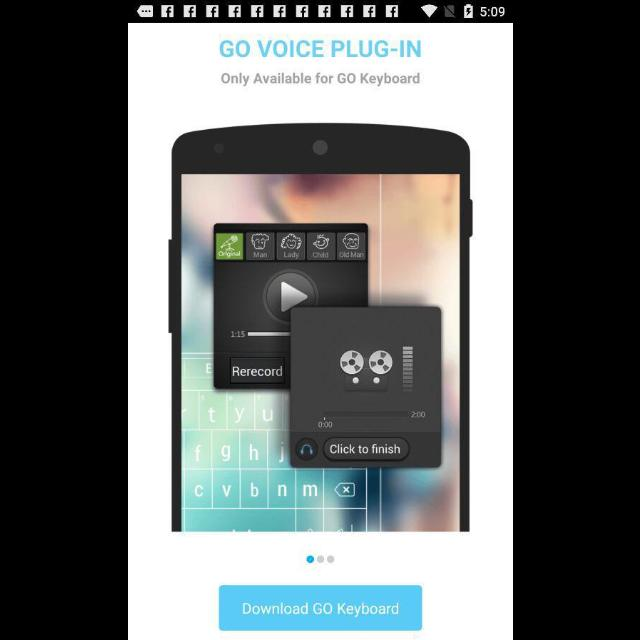image: (167, 123, 471, 532)
pageindicator: (306, 554, 334, 564)
text: (220, 40, 420, 58), (220, 72, 420, 88)
textbutton: (218, 586, 422, 630)
uppertaskbar: (128, 1, 512, 23)
